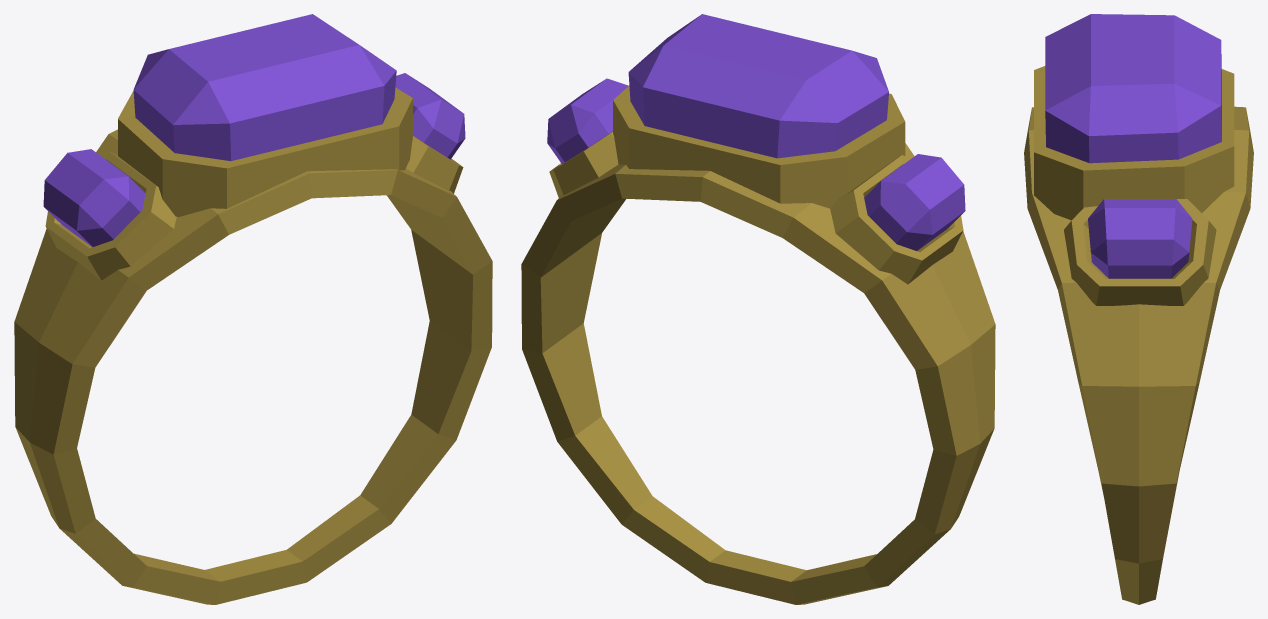
File: ring5-85536a0c08.glb
The picture shows the model from 3 angles, left to right: view 1: azimuth 30°, elevation 25°; view 2: azimuth 150°, elevation 25°; view 3: azimuth 270°, elevation 25°; orthographic projection. The views are drawn at different scales.
Visible parts, largest first — view 1: Ring5.obj; view 2: Ring5.obj; view 3: Ring5.obj.
Part boxes in pixels (x1,y1,x2,y2): Ring5.obj: (14, 14, 492, 604); Ring5.obj: (521, 14, 995, 604); Ring5.obj: (1024, 14, 1253, 604).
Size of the model in its own units: 0.6619 by 0.7723 by 0.3013.
